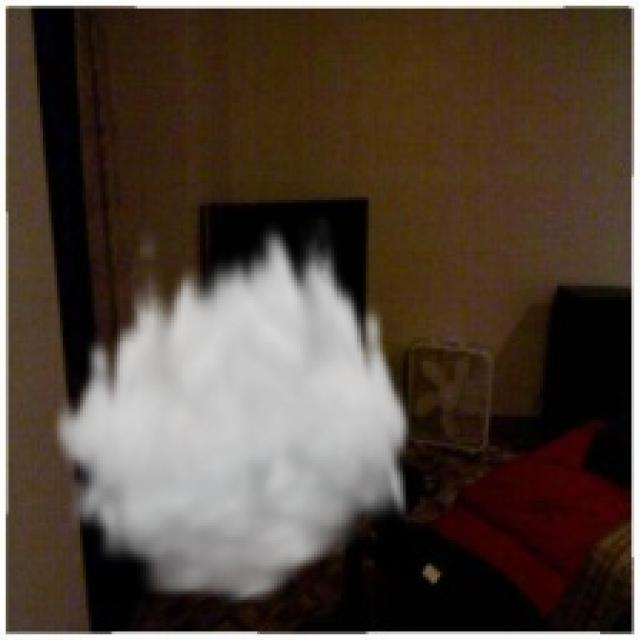smoke: (49, 214, 414, 612)
